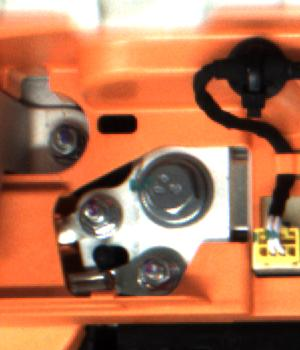nut_b: (124, 151, 221, 230)
screw_s: (77, 195, 115, 234), (47, 126, 87, 162), (131, 253, 173, 287)
